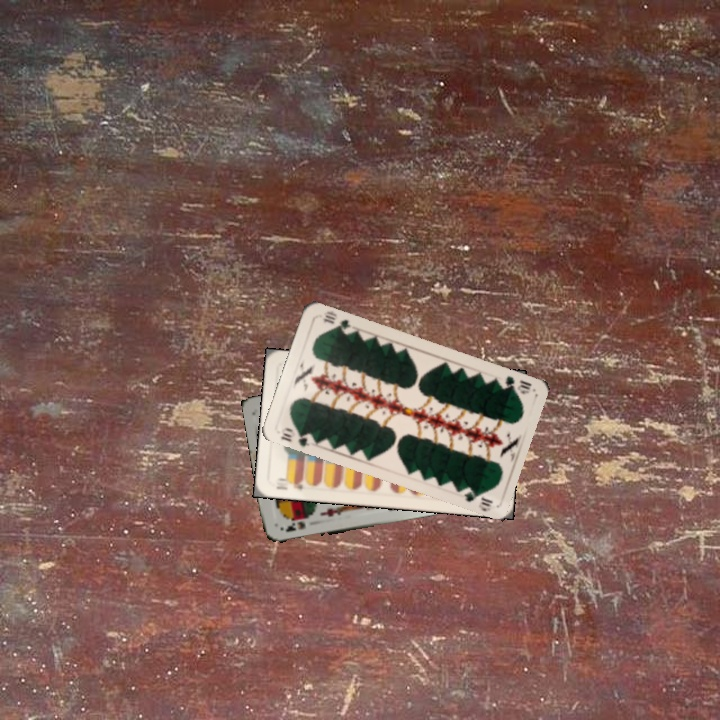E10: (272, 474, 305, 492)
G10: (277, 423, 316, 449), (501, 372, 534, 397)
SK: (281, 513, 311, 535)
